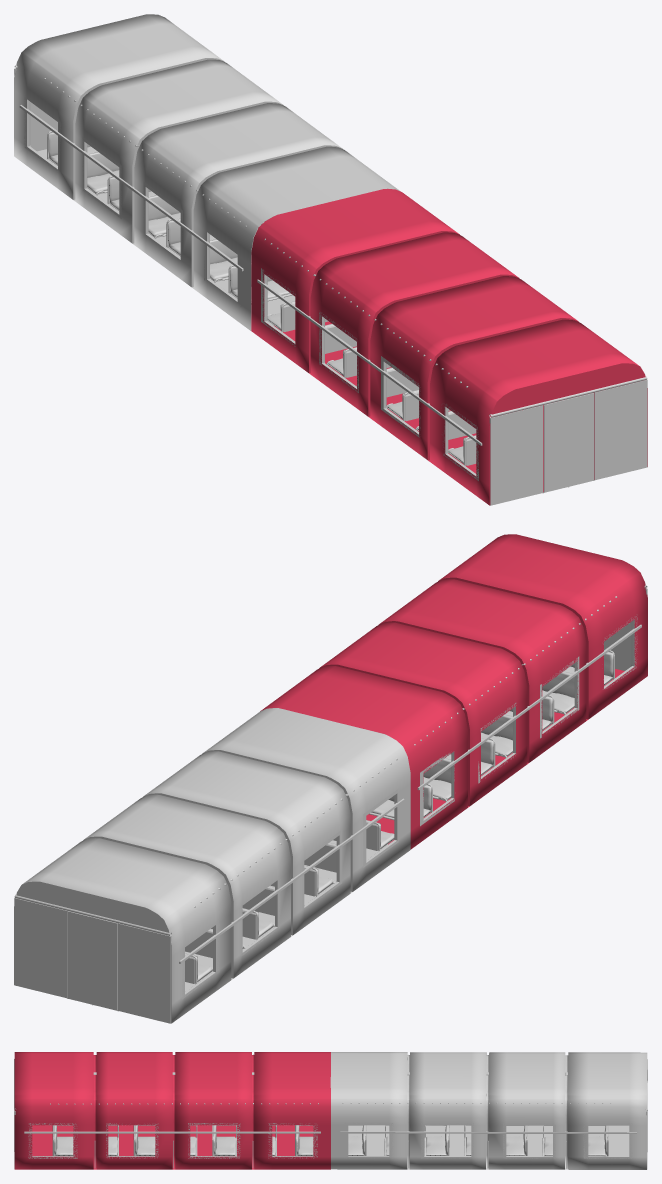
File: Train.fbx
3 views of the same model, one above another, from view 1: azimuth 30°, elevation 25°; view 2: azimuth 150°, elevation 25°; view 3: azimuth 270°, elevation 25° (orthographic). The views are drawn at different scales.
Visible parts, largest first — view 1: Train shape, Train shape.001, frameright, frameleft, door, Window rims, Window rims.001, Windowhing2.001, Windowthing, frameleft.001; view 2: Train shape.001, Train shape, frameright.001, frameleft.001, door.001, Window rims.001, Window rims, Windowhing2.001, Windowthing, frameright; view 3: Train shape, Train shape.001, Window rims.001, Window rims, Windowhing2, Windowthing.001, Chair base.046, Chair base.074, Chair base.042, Chair base.070, Chair base.082, Chair base.054 (+3 smaller).
Boxes of the visible parts, x1=… form: Train shape: x1=251, y1=188, x2=647, y2=505; Train shape.001: x1=14, y1=14, x2=400, y2=330; frameright: x1=489, y1=405, x2=543, y2=505; frameleft: x1=594, y1=379, x2=647, y2=480; door: x1=544, y1=393, x2=593, y2=492; Window rims: x1=261, y1=268, x2=478, y2=480; Window rims.001: x1=24, y1=95, x2=241, y2=306; Windowhing2.001: x1=19, y1=105, x2=243, y2=271; Windowthing: x1=257, y1=279, x2=482, y2=445; frameleft.001: x1=14, y1=68, x2=57, y2=151; Train shape.001: x1=14, y1=708, x2=410, y2=1023; Train shape: x1=260, y1=534, x2=647, y2=849; frameright.001: x1=14, y1=898, x2=67, y2=998; frameleft.001: x1=118, y1=923, x2=171, y2=1023; door.001: x1=67, y1=911, x2=117, y2=1010; Window rims.001: x1=182, y1=789, x2=399, y2=999; Window rims: x1=420, y1=616, x2=637, y2=826; Windowhing2.001: x1=179, y1=798, x2=404, y2=963; Windowthing: x1=417, y1=624, x2=641, y2=790; frameright: x1=604, y1=588, x2=647, y2=670; Train shape: x1=14, y1=1052, x2=330, y2=1169; Train shape.001: x1=330, y1=1052, x2=647, y2=1169; Window rims.001: x1=344, y1=1122, x2=632, y2=1158; Window rims: x1=28, y1=1123, x2=317, y2=1158; Windowhing2: x1=24, y1=1131, x2=320, y2=1133; Windowthing.001: x1=340, y1=1131, x2=636, y2=1133; Chair base.046: x1=214, y1=1136, x2=235, y2=1155; Chair base.074: x1=426, y1=1136, x2=446, y2=1155; Chair base.042: x1=136, y1=1136, x2=155, y2=1155; Chair base.070: x1=506, y1=1136, x2=525, y2=1155; Chair base.082: x1=588, y1=1136, x2=606, y2=1156; Chair base.054: x1=55, y1=1136, x2=73, y2=1155.
Bounding box in the file's own units: 21291 × 13857 × 108248.
